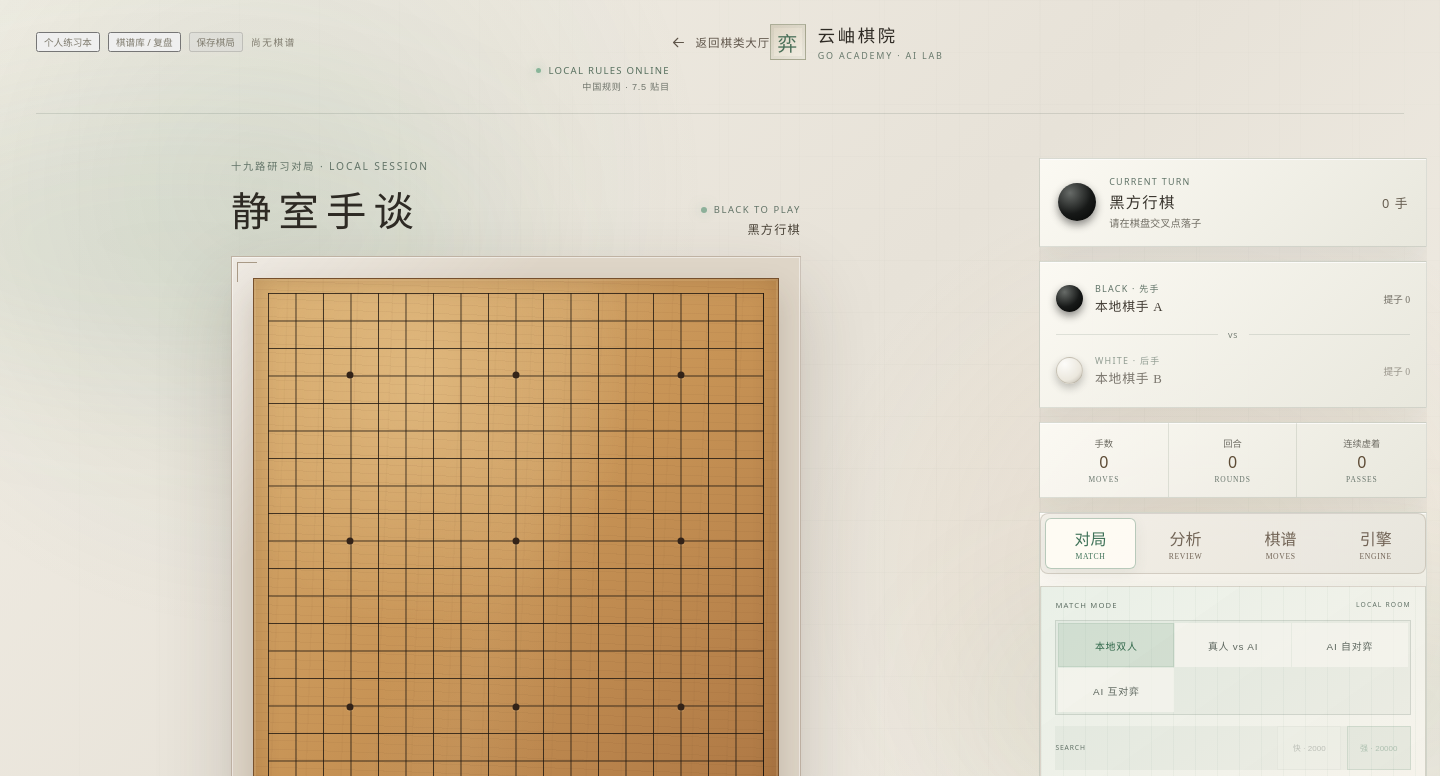
Test: 围棋 React 页面 › 点击合法交叉点后更新棋盘、回合、手数和最近一步标记
Click the cell named "D16，空点" at (350, 376), box top-left (336, 362), bottom-right (364, 389)
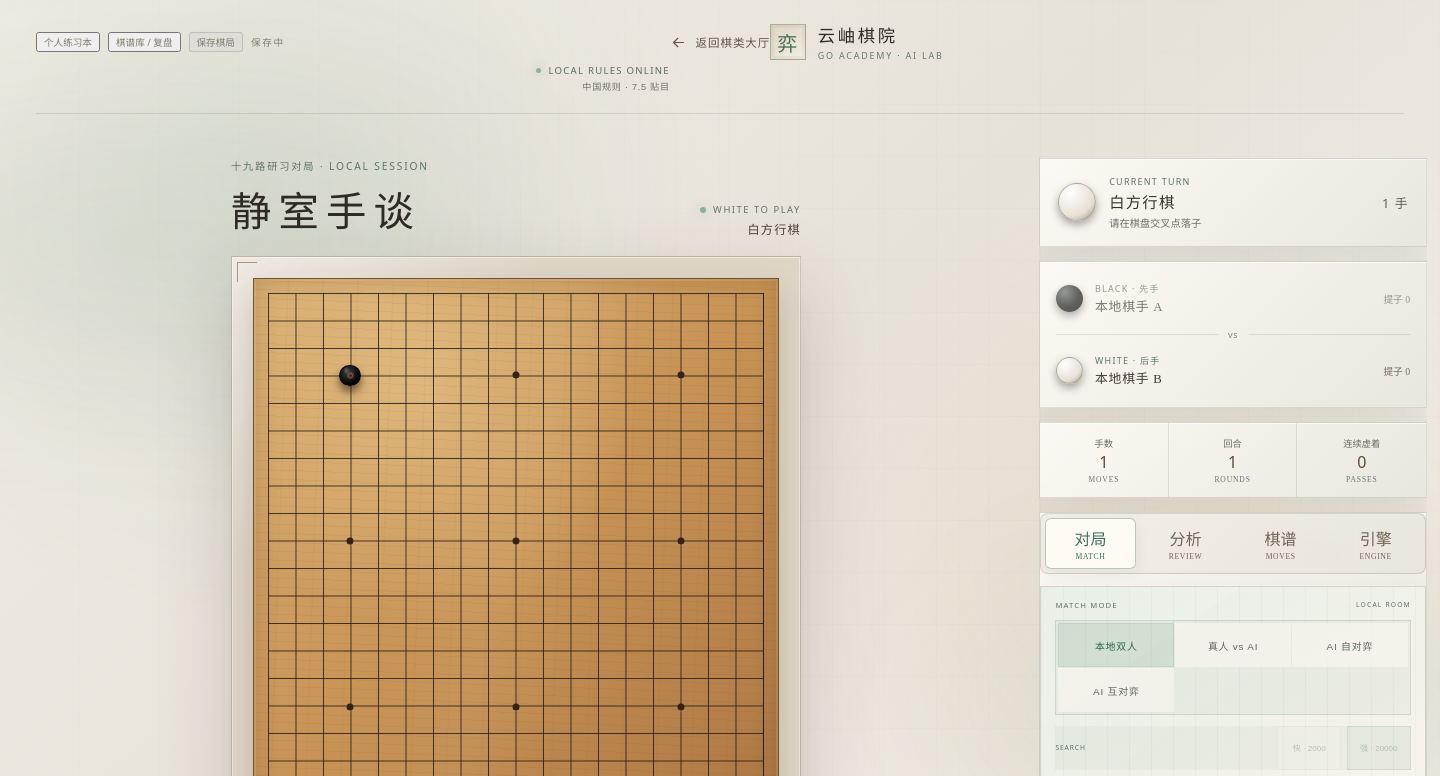
Expected: the cell named "D16，黑子，最近一步" is shown, top-left (336, 362), bottom-right (364, 389)
Expected: the element with class "go-board__stone--black" is shown, top-left (340, 365), bottom-right (361, 386)
Expected: the icon with class "go-board__last-marker" is shown, top-left (348, 373), bottom-right (353, 378)
Click the cell named "E16，空点" at (378, 376), box top-left (364, 362), bottom-right (392, 389)
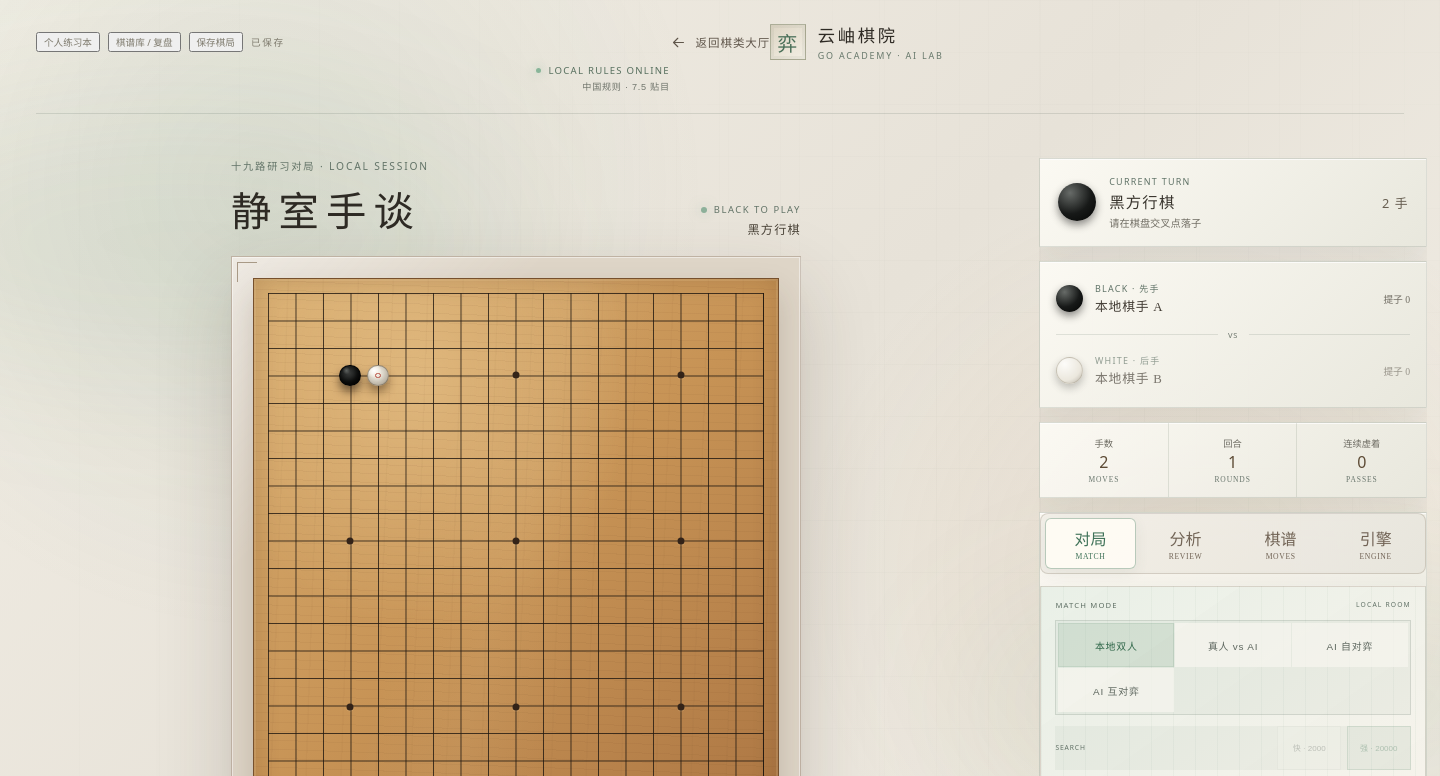
Expected: the icon with class "go-board__last-marker" is shown, top-left (375, 373), bottom-right (381, 378)
Expected: the cell named "D16，黑子" is shown, top-left (336, 362), bottom-right (364, 389)
Expected: the element with class "go-board__stone--white" is shown, top-left (367, 365), bottom-right (389, 386)
